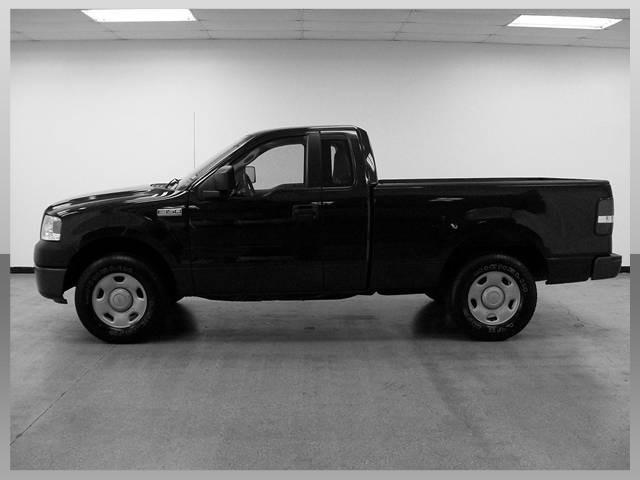car: (31, 125, 624, 349)
